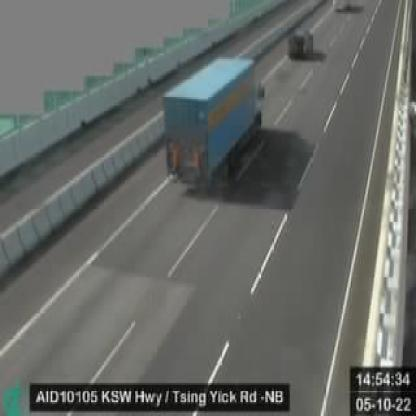Car: (286, 30, 312, 61)
Truck: (162, 57, 264, 187)
